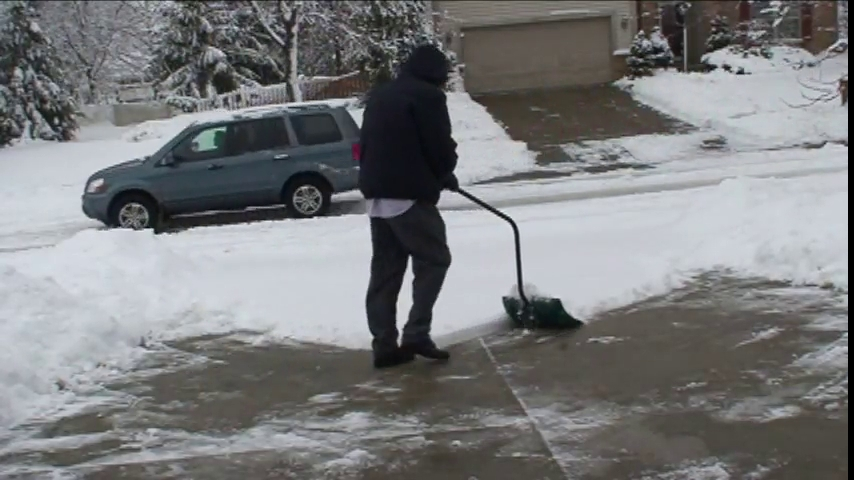person: (359, 44, 459, 369)
